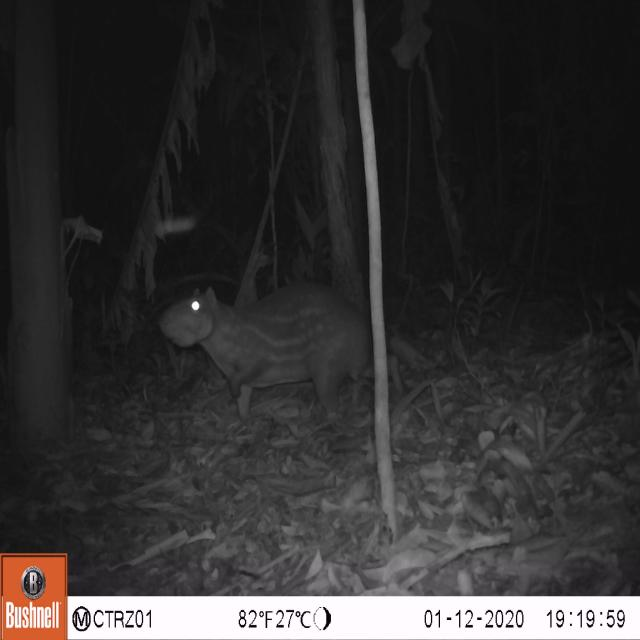Spotted Paca: (106, 260, 453, 442)
